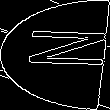N_E: (4, 33, 106, 77)
